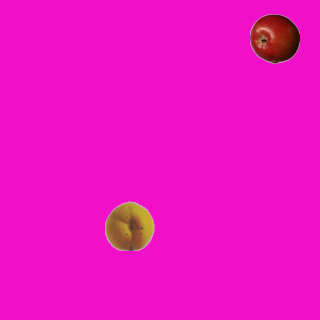Apple Braeburn: (249, 13, 299, 63)
Peach 2: (104, 200, 154, 250)
